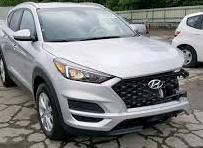Crossovers: (1, 3, 189, 139)
